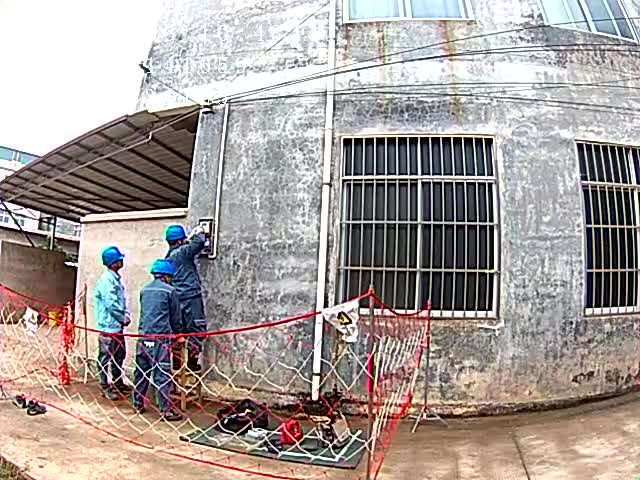halt: (103, 249, 129, 274), (152, 262, 178, 285), (167, 227, 191, 250)
